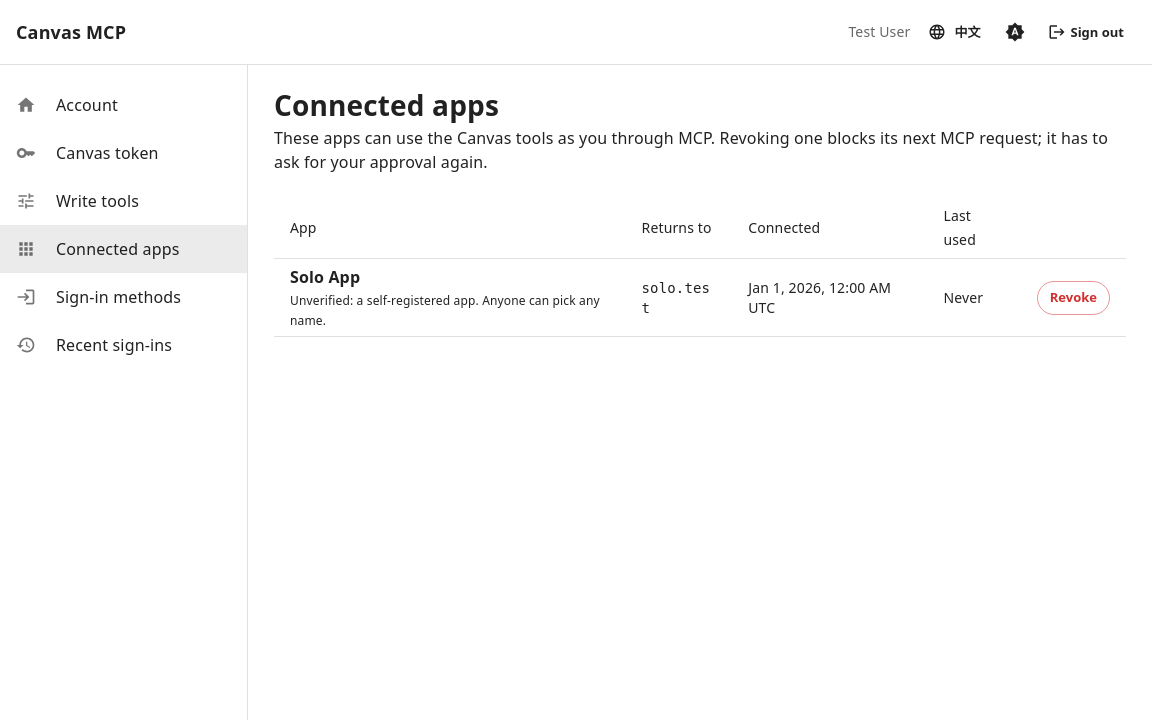
Test: Connected apps › treats an app that is already gone as done
Click the button with aria-label "Revoke: Solo App" at {"x": 1073, "y": 298}, box [1037,281,1110,315]
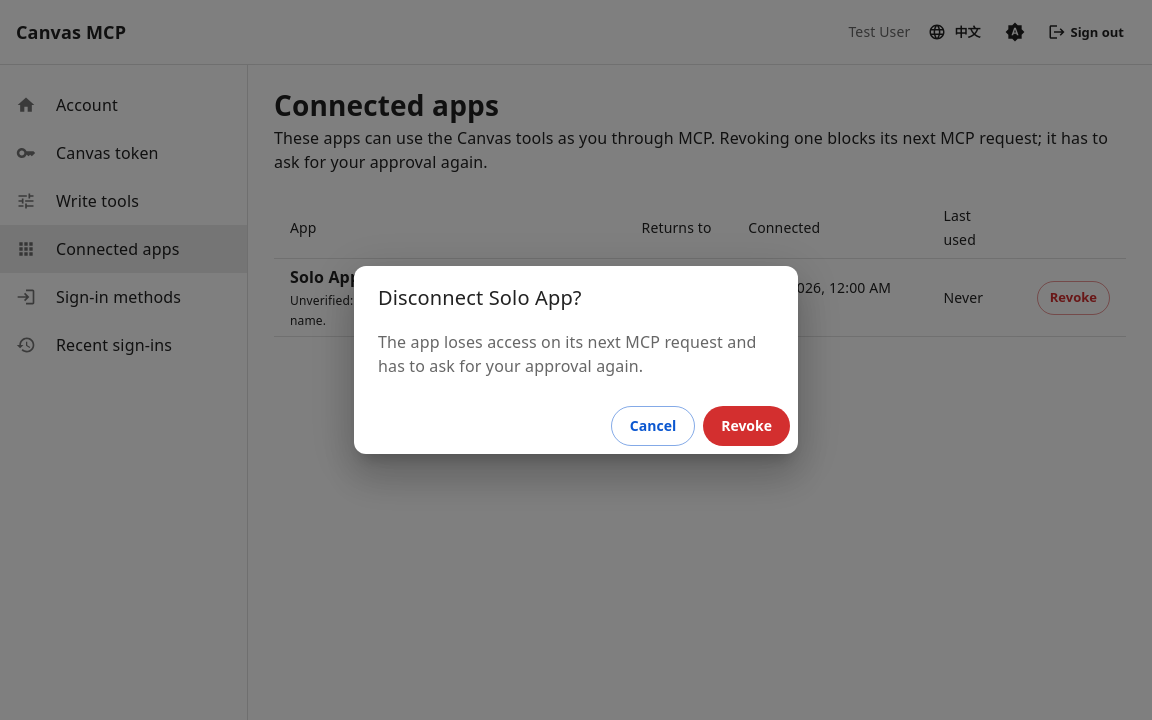
Click the button "Revoke" at {"x": 747, "y": 426}, box [703,406,790,446]
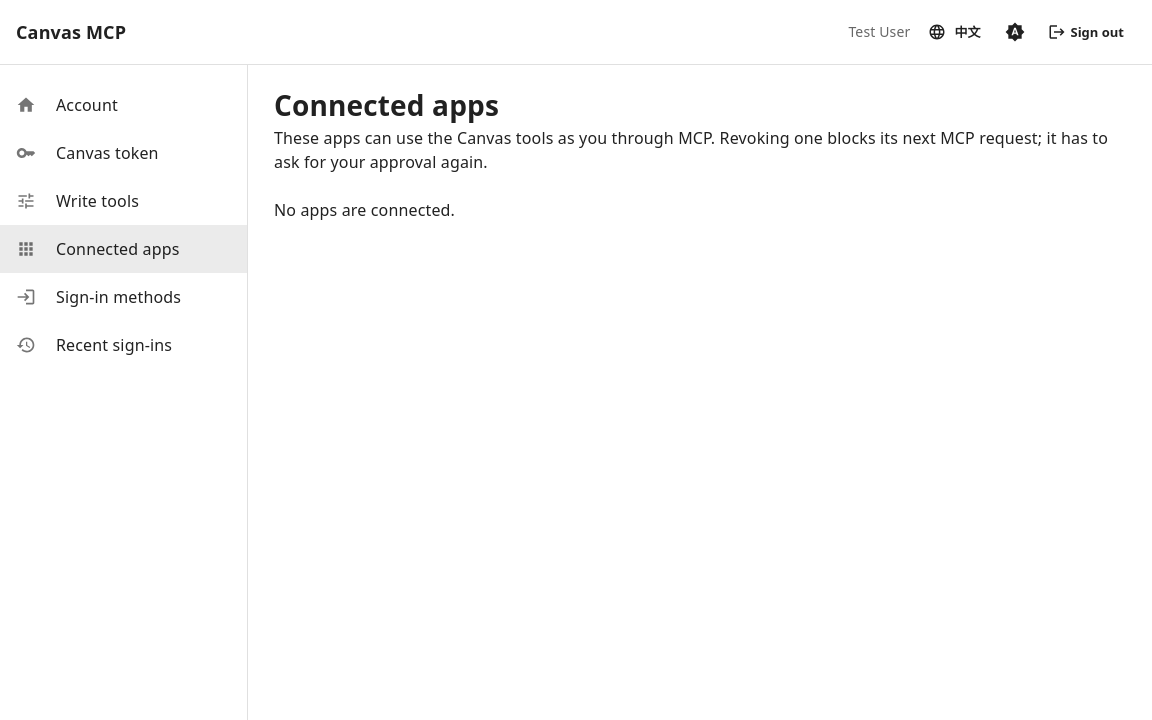
Now the dialog is gone
Now the text "No apps are connected." is shown, box [274,199,455,221]
